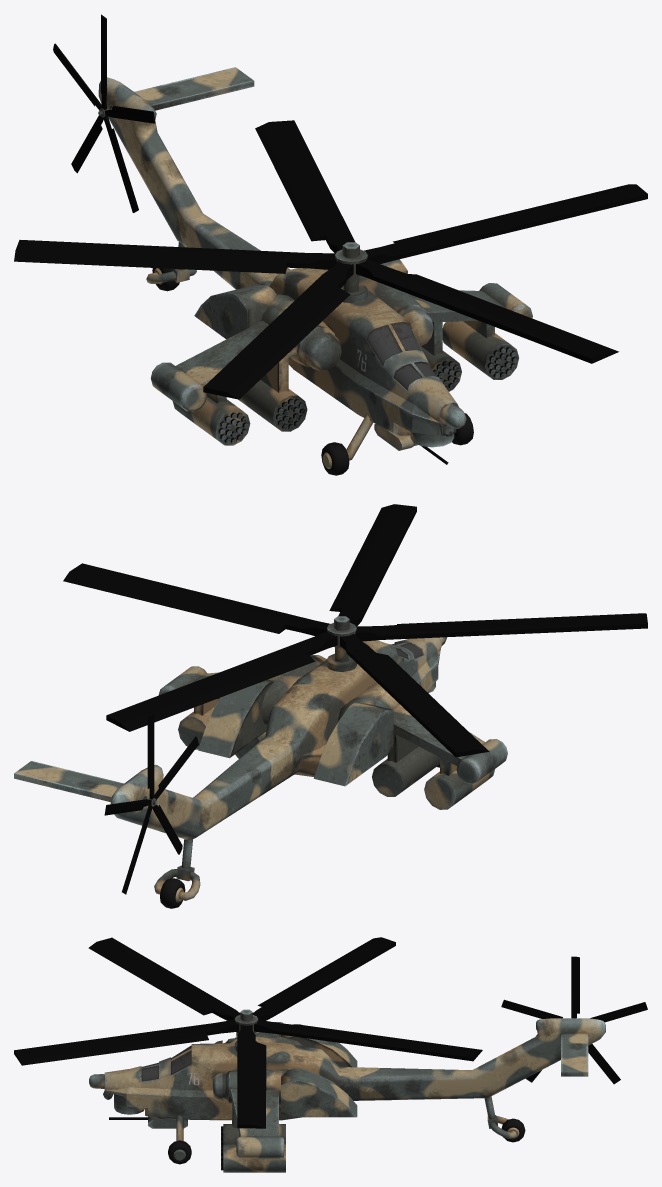
The model's file is Helicopter.fbx.
3 views of the same model, one above another, from view 1: azimuth 30°, elevation 25°; view 2: azimuth 150°, elevation 25°; view 3: azimuth 270°, elevation 25° (orthographic). The views are drawn at different scales.
Parts seen in each view (by area): view 1: Helicopter_Body, Helicopter_Big_Blades, Helicopter_Small_Blades; view 2: Helicopter_Body, Helicopter_Big_Blades, Helicopter_Small_Blades; view 3: Helicopter_Body, Helicopter_Big_Blades, Helicopter_Small_Blades.
Part boxes in pixels (x1,y1,x2,y2): Helicopter_Body: (98,67,532,475); Helicopter_Big_Blades: (14,120,647,399); Helicopter_Small_Blades: (53,14,155,212); Helicopter_Body: (14,637,507,908); Helicopter_Big_Blades: (63,504,647,757); Helicopter_Small_Blades: (104,713,198,894); Helicopter_Body: (89,1018,605,1172); Helicopter_Big_Blades: (14,937,482,1128); Helicopter_Small_Blades: (501,956,647,1084).
Size of the model in its own units: 3798 by 1651 by 5349.
1 material, 1 textured.
